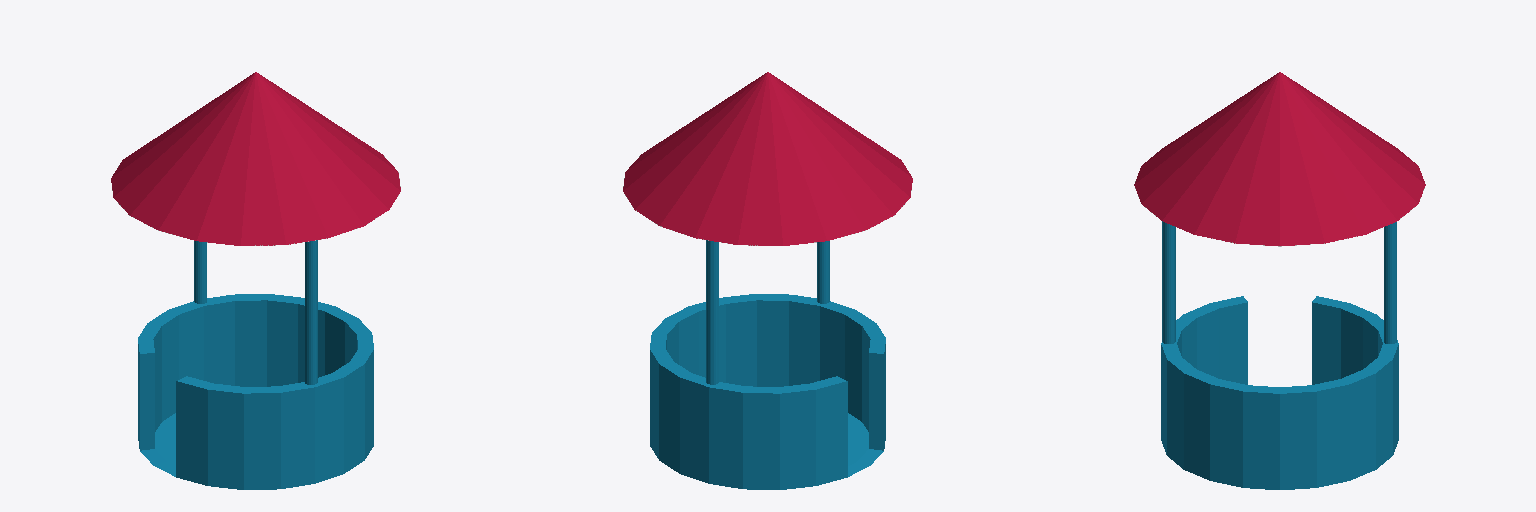
3 views of the same model, side by side, from view 1: azimuth 30°, elevation 25°; view 2: azimuth 150°, elevation 25°; view 3: azimuth 270°, elevation 25° (orthographic).
Parts seen in each view (by area): view 1: cabine1:pCylinder5; view 2: cabine1:pCylinder5; view 3: cabine1:pCylinder5.
Boxes of the visible parts, box(x1,y1,x2,y2) form: cabine1:pCylinder5: box(111, 72, 400, 489); cabine1:pCylinder5: box(623, 72, 912, 489); cabine1:pCylinder5: box(1134, 72, 1425, 489).
Size of the model in its own units: 0.2662 by 0.3709 by 0.2662.
Materials: 1 (1 with a texture image).